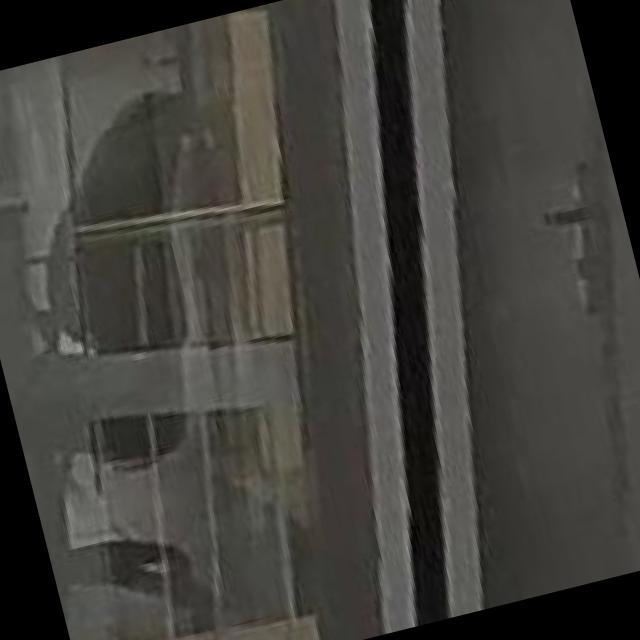Guns: (37, 474, 232, 640)
